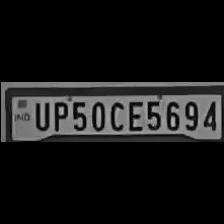0: (88, 99, 106, 131)
4: (200, 97, 218, 130)
5: (67, 99, 87, 131), (142, 98, 162, 130)
6: (162, 98, 180, 130)
9: (179, 98, 199, 130)
C: (105, 99, 124, 131)
E: (124, 97, 142, 130)
P: (49, 99, 67, 131)
U: (29, 99, 48, 131)
